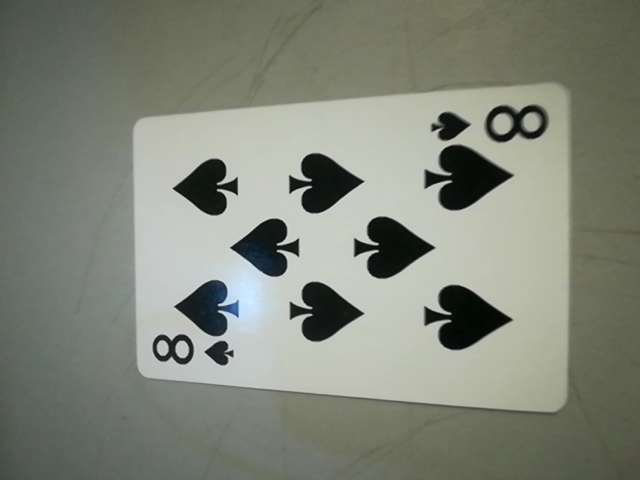ht 8: (435, 94, 563, 153)
